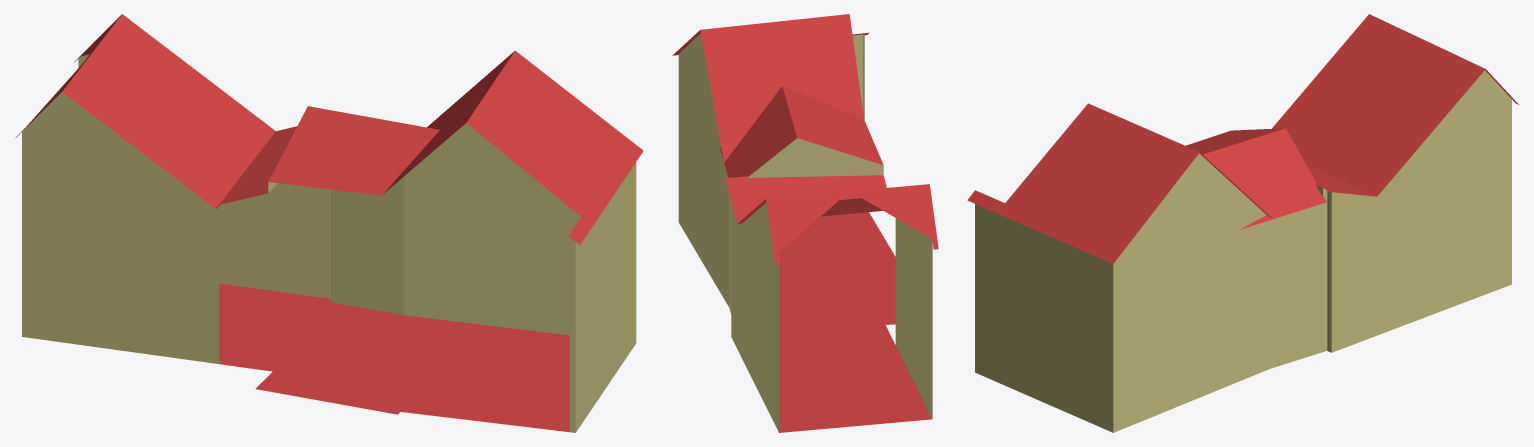
3 views of the same model, side by side, from view 1: azimuth 30°, elevation 25°; view 2: azimuth 150°, elevation 25°; view 3: azimuth 270°, elevation 25° (orthographic). The views are drawn at different scales.
Bounding box in the file's own units: 22.26 × 25.16 × 12.5.
